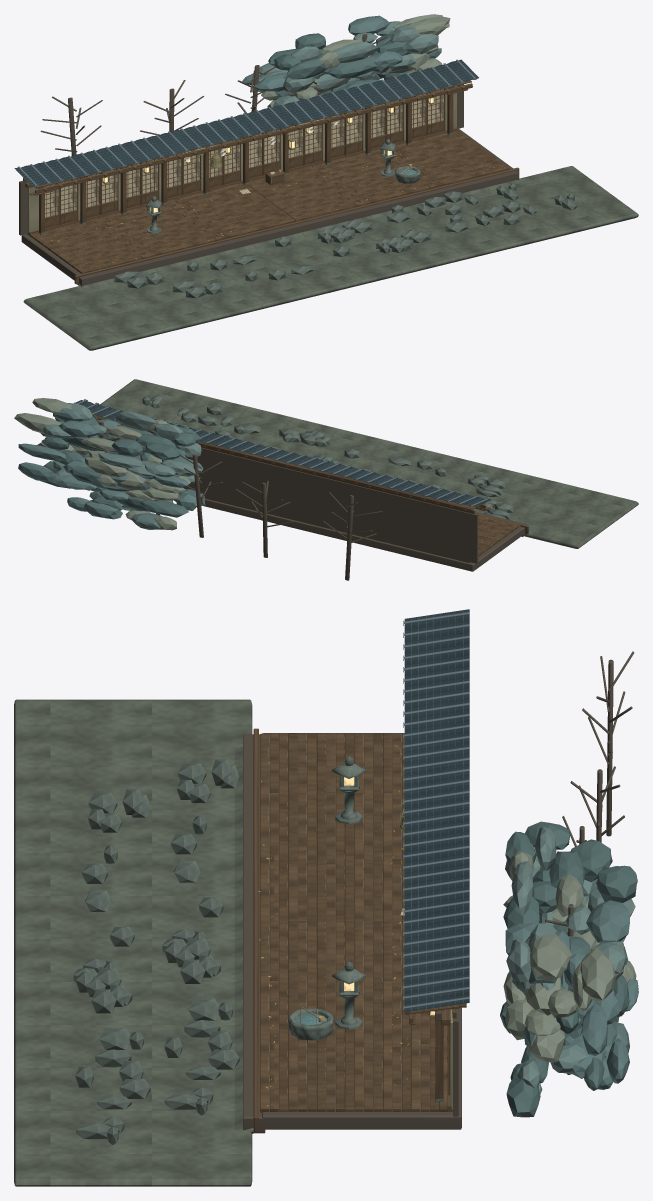
File: night02_corridor.glb
3 renders of one model, top to bottom at view 1: azimuth 30°, elevation 25°; view 2: azimuth 150°, elevation 25°; view 3: azimuth 270°, elevation 25°, orthographic. The views are drawn at different scales.
Parts seen in each view (by area): view 1: Garden_ground_below_deck, Deck_aged_cedar_planks_nails, Rear_cedar_canopy, Curved_kawara_roof, Grounded_layered_foreground_stones, Kawara_barrels_and_ends, Deck_underfloor_ground_join, Deck_understructure_and_worn_fascia, Stepped_eave_beams, Weathered_plaster_underpanels, Earth_bank_against_foundation, Shoji_pair_03 (+12 smaller); view 2: Rear_cedar_canopy, Garden_ground_below_deck, Continuous_dark_sanctuary_backing, Grounded_layered_foreground_stones, Curved_kawara_roof, Deck_understructure_and_worn_fascia, Kawara_barrels_and_ends, Deck_aged_cedar_planks_nails, Exposed_cedar_rafters, Stepped_eave_beams; view 3: Garden_ground_below_deck, Deck_aged_cedar_planks_nails, Rear_cedar_canopy, Curved_kawara_roof, Grounded_layered_foreground_stones, Deck_understructure_and_worn_fascia, Kawara_barrels_and_ends, Deck_underfloor_ground_join, Earth_bank_against_foundation, Carved_water_basin_exterior, Carved_stone_lantern_right, Carved_stone_lantern_left.
Part boxes in pixels (left/top/right/bottom): Garden_ground_below_deck: left=23, top=166, right=638, bottom=350; Deck_aged_cedar_planks_nails: left=27, top=130, right=509, bottom=273; Rear_cedar_canopy: left=40, top=14, right=450, bottom=155; Curved_kawara_roof: left=14, top=59, right=478, bottom=186; Grounded_layered_foreground_stones: left=114, top=183, right=576, bottom=298; Kawara_barrels_and_ends: left=16, top=59, right=477, bottom=186; Deck_underfloor_ground_join: left=77, top=171, right=519, bottom=286; Deck_understructure_and_worn_fascia: left=21, top=128, right=519, bottom=284; Stepped_eave_beams: left=23, top=83, right=472, bottom=195; Weathered_plaster_underpanels: left=28, top=86, right=456, bottom=233; Earth_bank_against_foundation: left=78, top=180, right=519, bottom=288; Shoji_pair_03: left=167, top=154, right=201, bottom=198; Rear_cedar_canopy: left=14, top=398, right=382, bottom=580; Garden_ground_below_deck: left=100, top=379, right=638, bottom=548; Continuous_dark_sanctuary_backing: left=82, top=437, right=478, bottom=563; Grounded_layered_foreground_stones: left=142, top=394, right=513, bottom=519; Curved_kawara_roof: left=74, top=400, right=491, bottom=506; Deck_understructure_and_worn_fascia: left=202, top=498, right=528, bottom=571; Kawara_barrels_and_ends: left=74, top=399, right=490, bottom=506; Deck_aged_cedar_planks_nails: left=204, top=497, right=520, bottom=562; Exposed_cedar_rafters: left=92, top=415, right=485, bottom=510; Stepped_eave_beams: left=98, top=419, right=490, bottom=513; Garden_ground_below_deck: left=14, top=699, right=252, bottom=1186; Deck_aged_cedar_planks_nails: left=260, top=733, right=452, bottom=1112; Rear_cedar_canopy: left=500, top=651, right=638, bottom=1117; Curved_kawara_roof: left=404, top=609, right=469, bottom=1012; Grounded_layered_foreground_stones: left=73, top=759, right=239, bottom=1144; Deck_understructure_and_worn_fascia: left=253, top=728, right=461, bottom=1131; Kawara_barrels_and_ends: left=403, top=611, right=469, bottom=1010; Deck_underfloor_ground_join: left=243, top=734, right=265, bottom=1133; Earth_bank_against_foundation: left=234, top=746, right=253, bottom=1133; Carved_water_basin_exterior: left=288, top=1006, right=333, bottom=1042; Carved_stone_lantern_right: left=332, top=962, right=365, bottom=1031; Carved_stone_lantern_left: left=332, top=756, right=365, bottom=826.
Bounding box in the file's own units: 36 × 6.94 × 19.68.
Materials: 24 (7 with a texture image).
